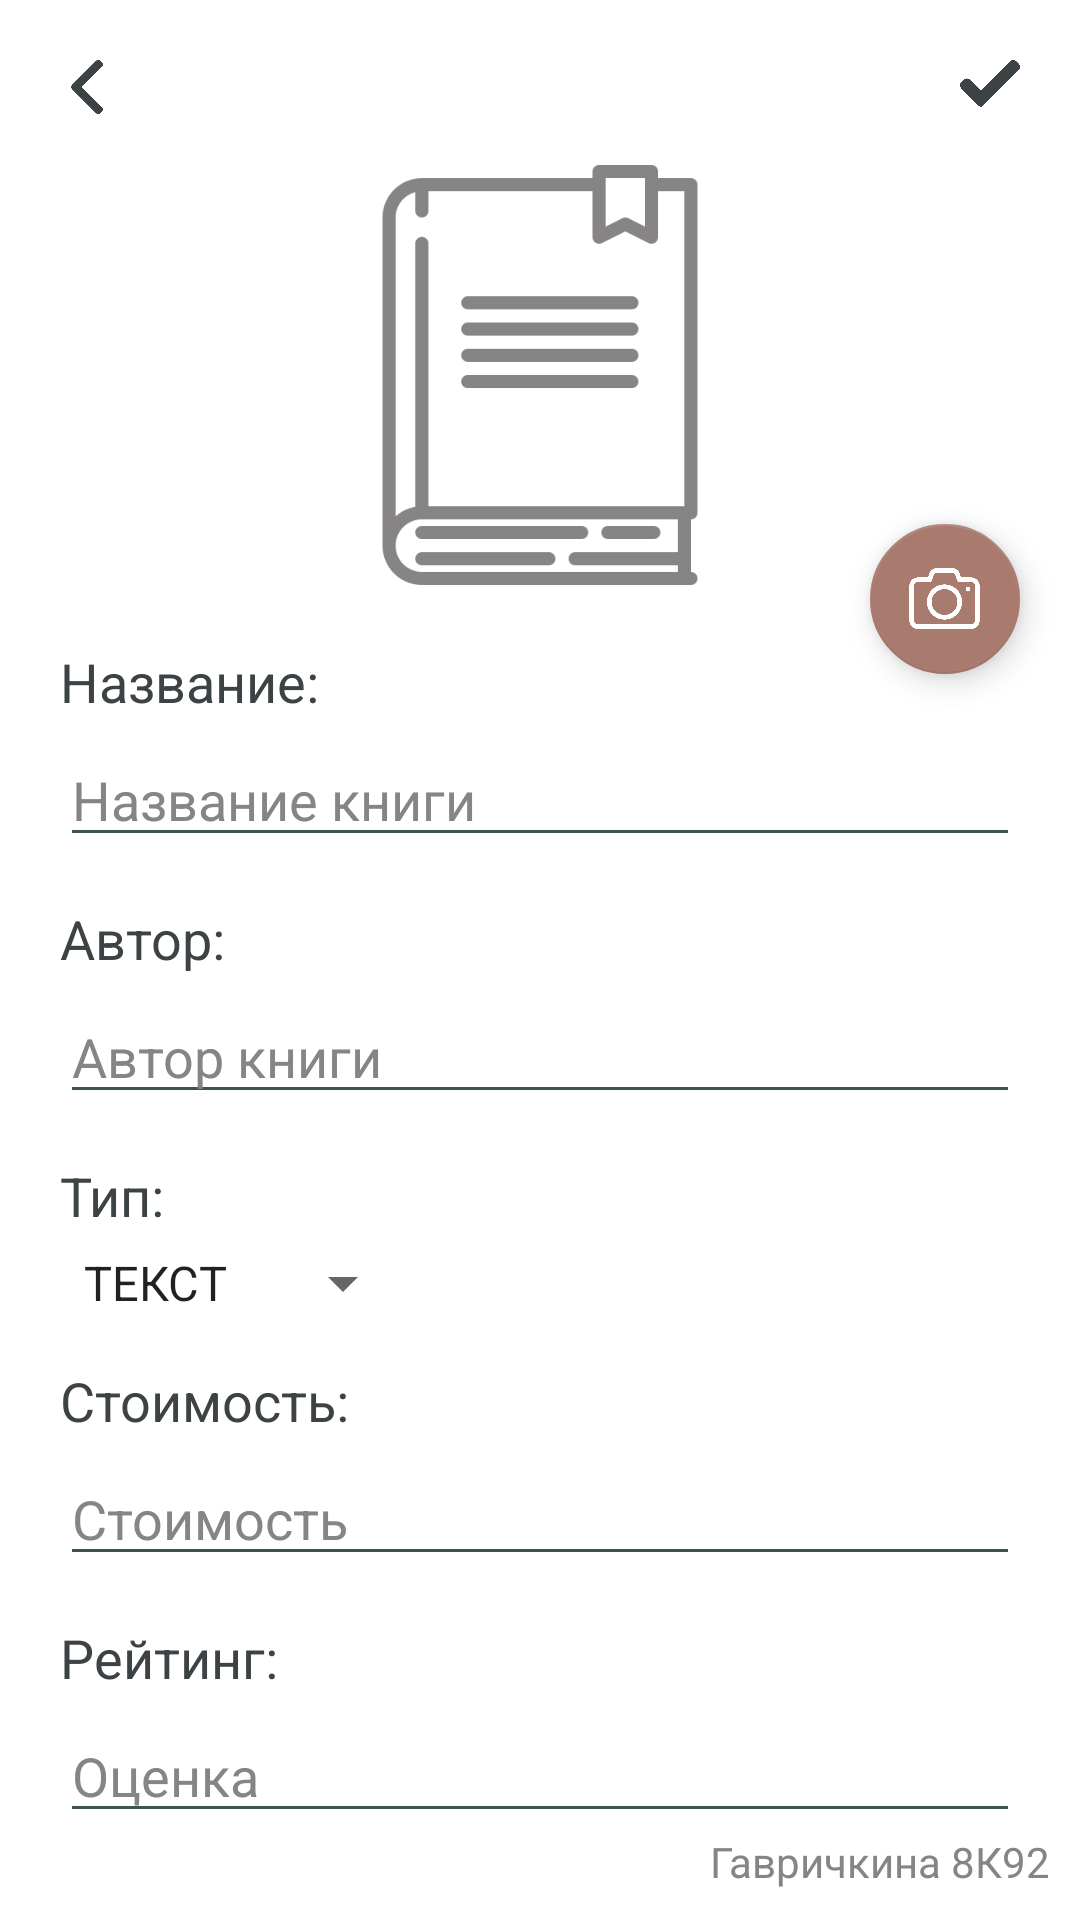

Icon click points for this 1080*1920 phone screenshot, format [x,y]:
back: [87,87]
camera: [945,599]
save: [990,83]
